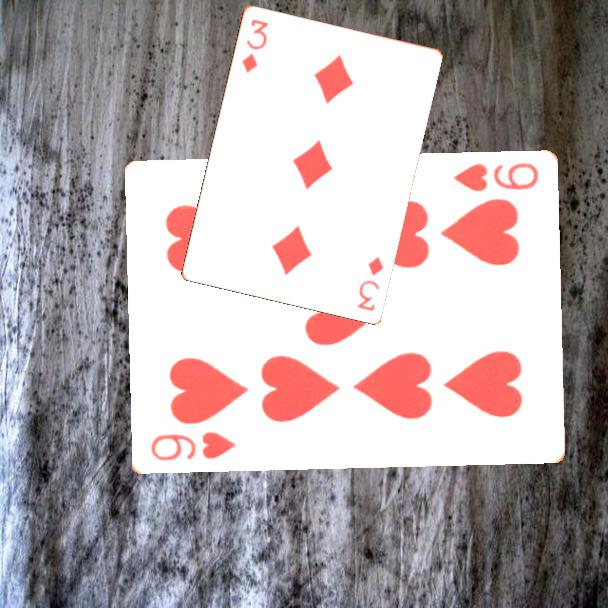d03: (353, 252, 386, 314), (238, 15, 271, 75)
h09: (147, 428, 238, 464), (449, 159, 541, 194)
